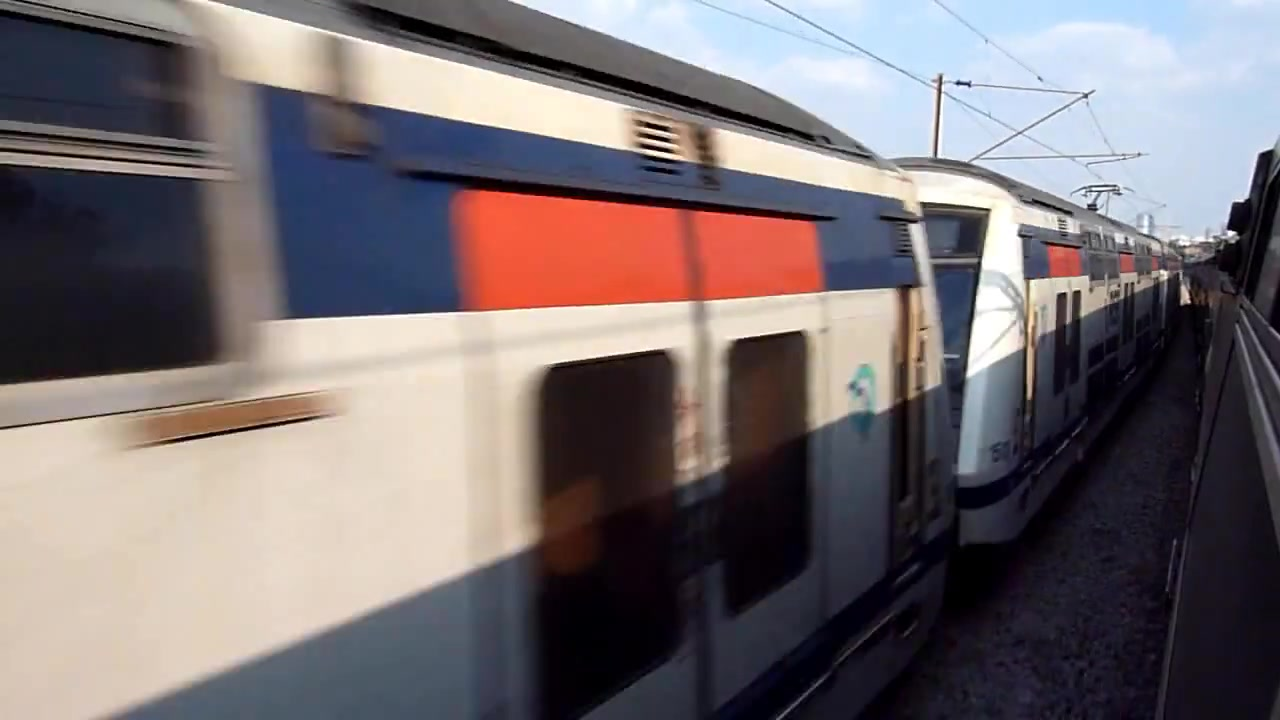train: (1, 1, 1190, 720)
